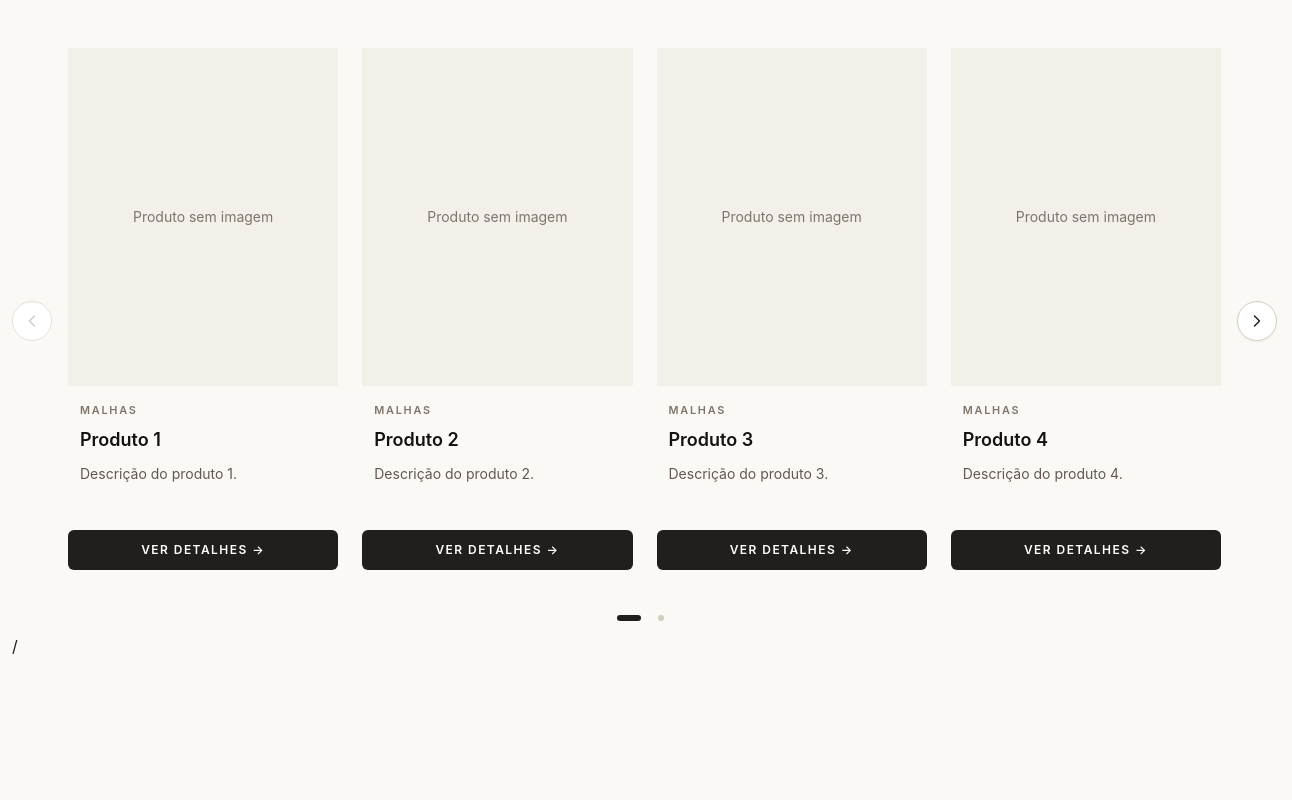
PublicProductCarousel › renderiza os produtos e permite abrir um deles
Click the link "Produto 1" at (203, 313), box [68,48,338,578]
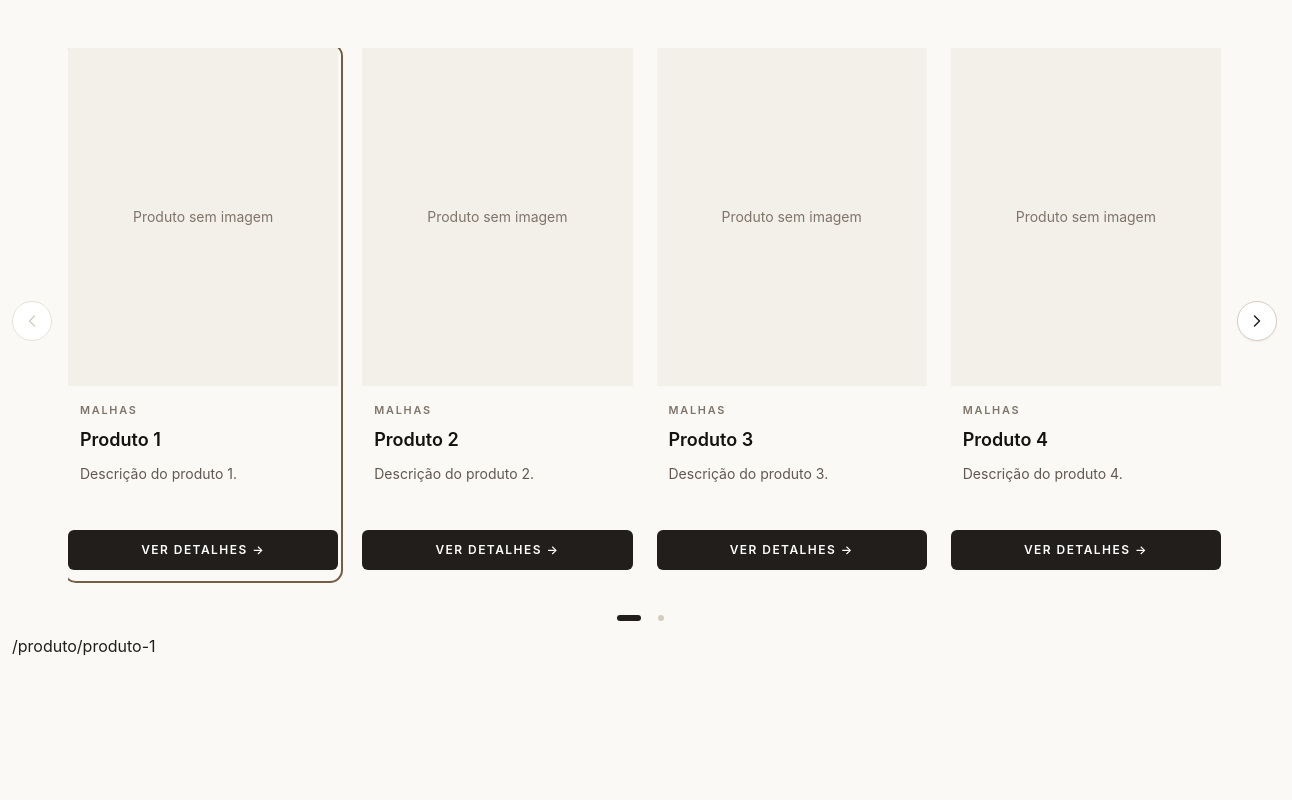
Result: the text with test id "current-path" reads "/produto/produto-1" at [12,636,156,656]
